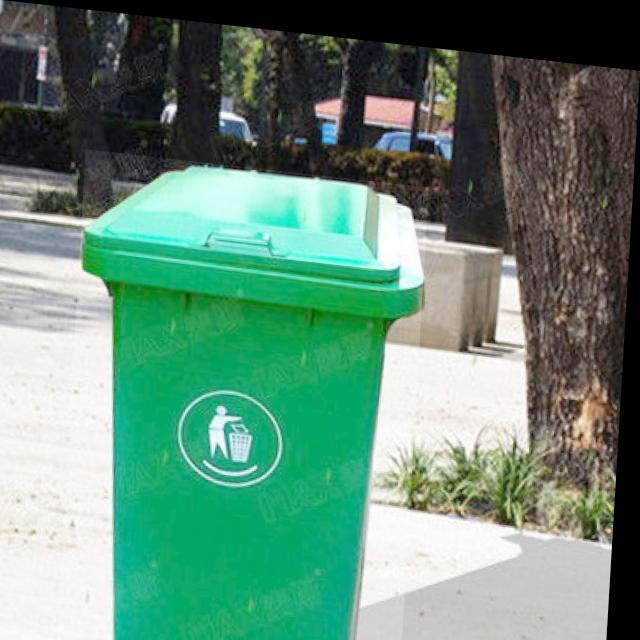garbage_bin: (64, 147, 430, 640)
